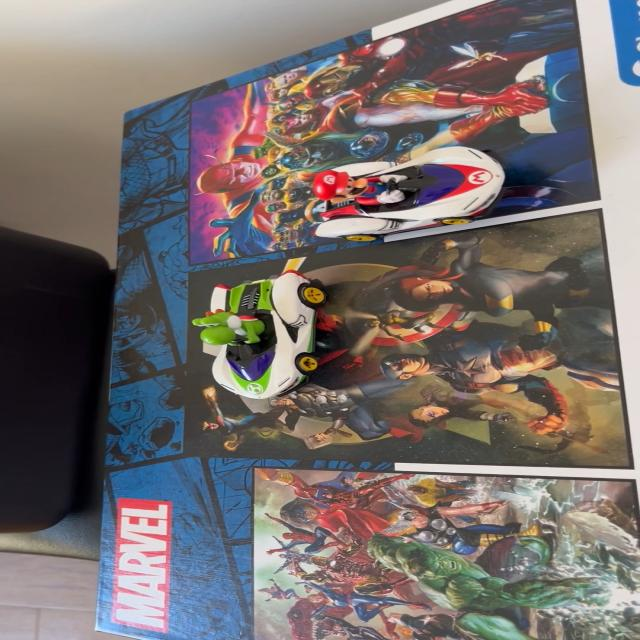mario: (299, 147, 523, 245)
yoshi: (185, 266, 342, 414)
